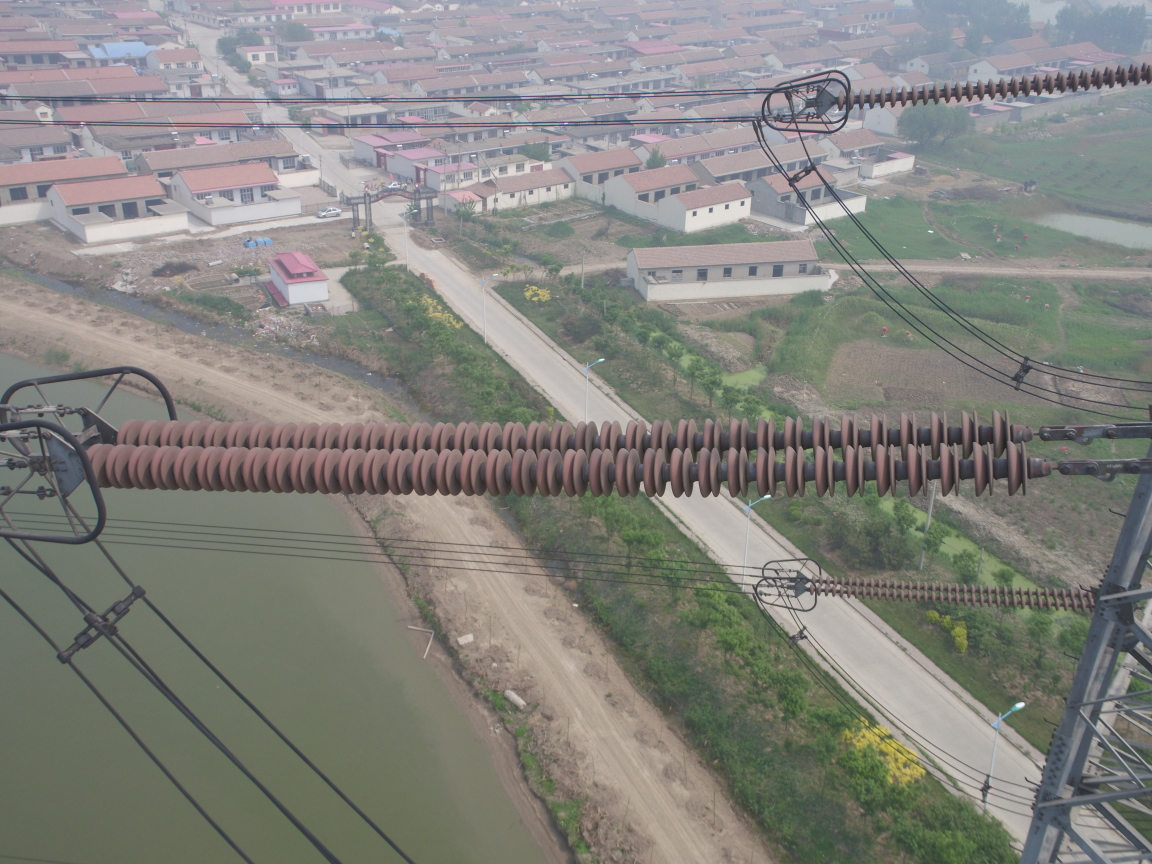insulator: (67, 406, 1121, 499), (829, 61, 1152, 114), (806, 569, 1099, 618)
